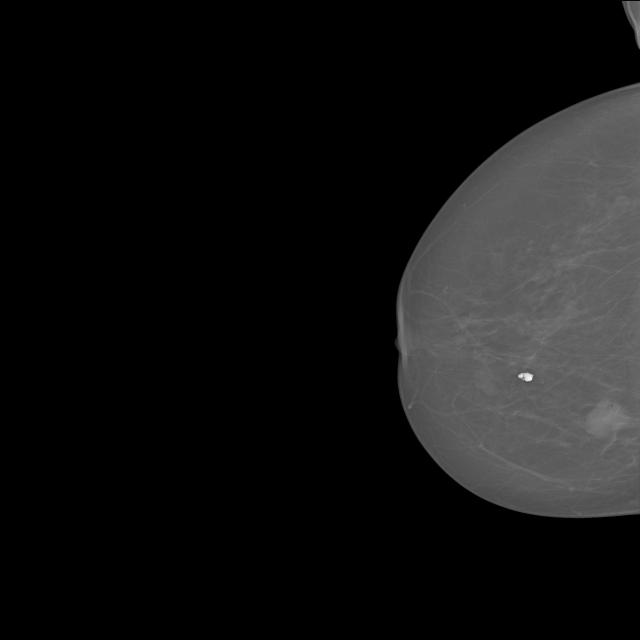Mass_1: (571, 385, 640, 456)
